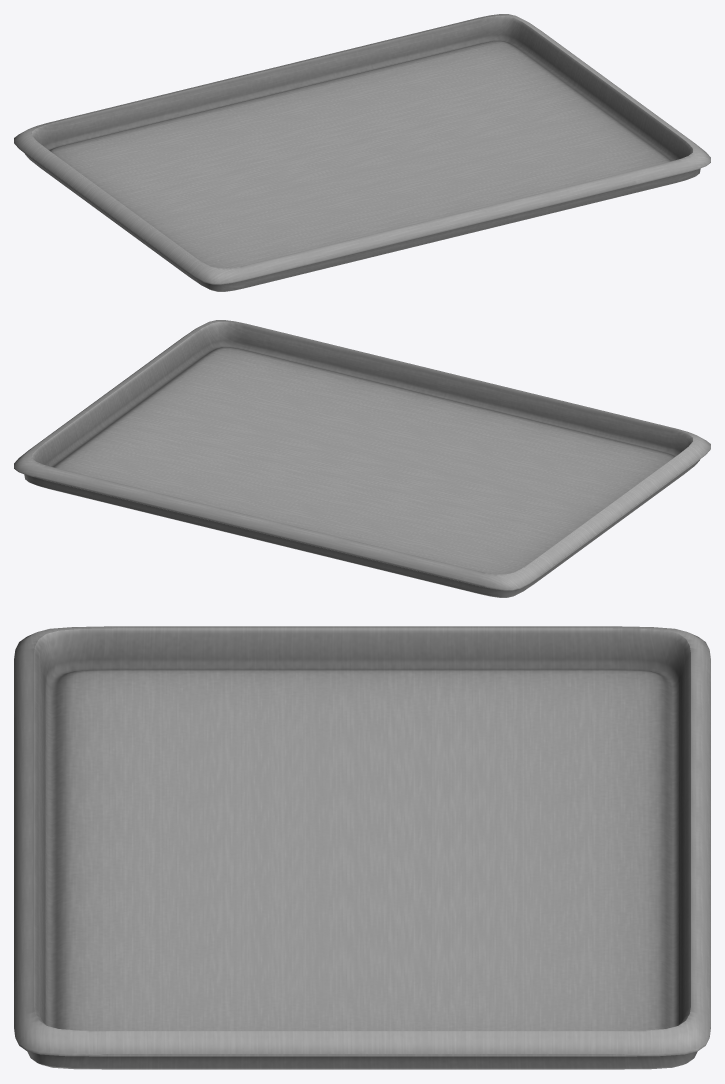
The model's file is Khaychunhat.fbx.
The picture shows the model from 3 angles, top to bottom: view 1: azimuth 30°, elevation 25°; view 2: azimuth 150°, elevation 25°; view 3: azimuth 270°, elevation 25°; orthographic projection. The views are drawn at different scales.
Parts seen in each view (by area): view 1: Khaychunhat; view 2: Khaychunhat; view 3: Khaychunhat.
Part boxes in pixels (box(x1,y1,x2,y2)): Khaychunhat: box(14, 14, 710, 291); Khaychunhat: box(14, 320, 710, 597); Khaychunhat: box(14, 626, 710, 1069).
Bounding box in the file's own units: 45.49 × 1.88 × 31.67.
Materials: 1 (1 with a texture image).
